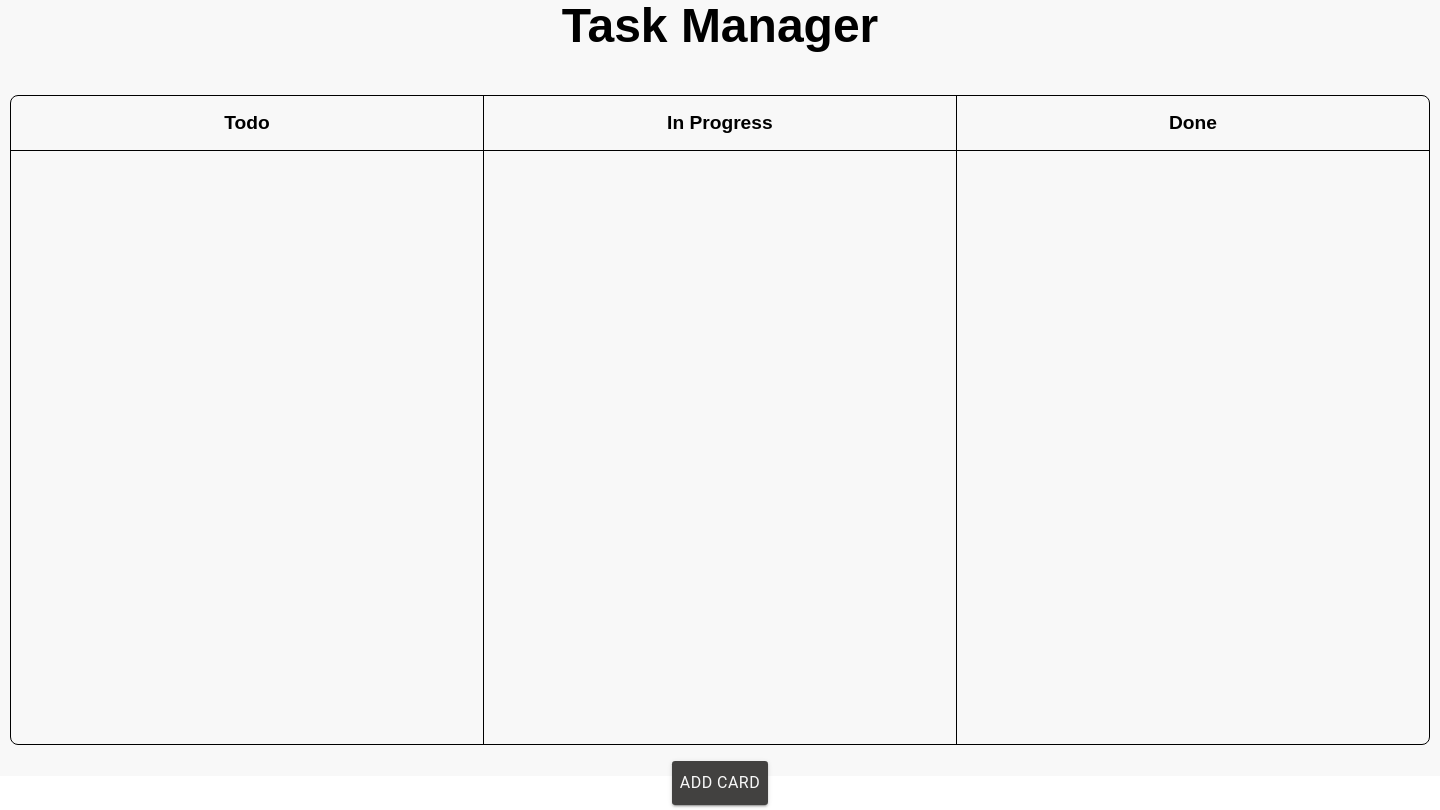
Test: App › opens the new task form when the "Add Card" button is clicked
(page scrolled)
Click the button "Add Card". click: [720, 782]
box: [672, 760, 768, 804]
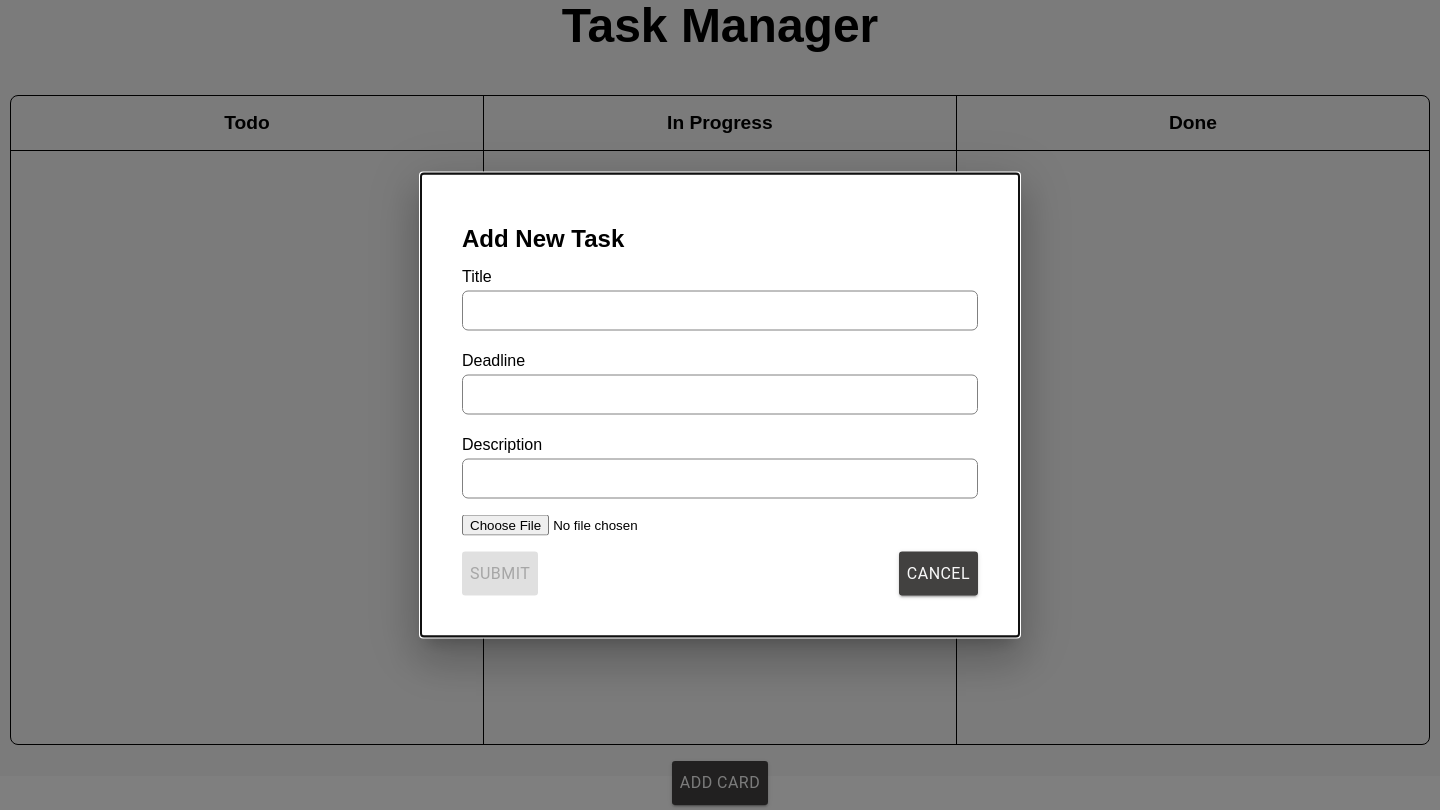
Expected: the text "Add New Task" is shown, [462, 224, 624, 252]
